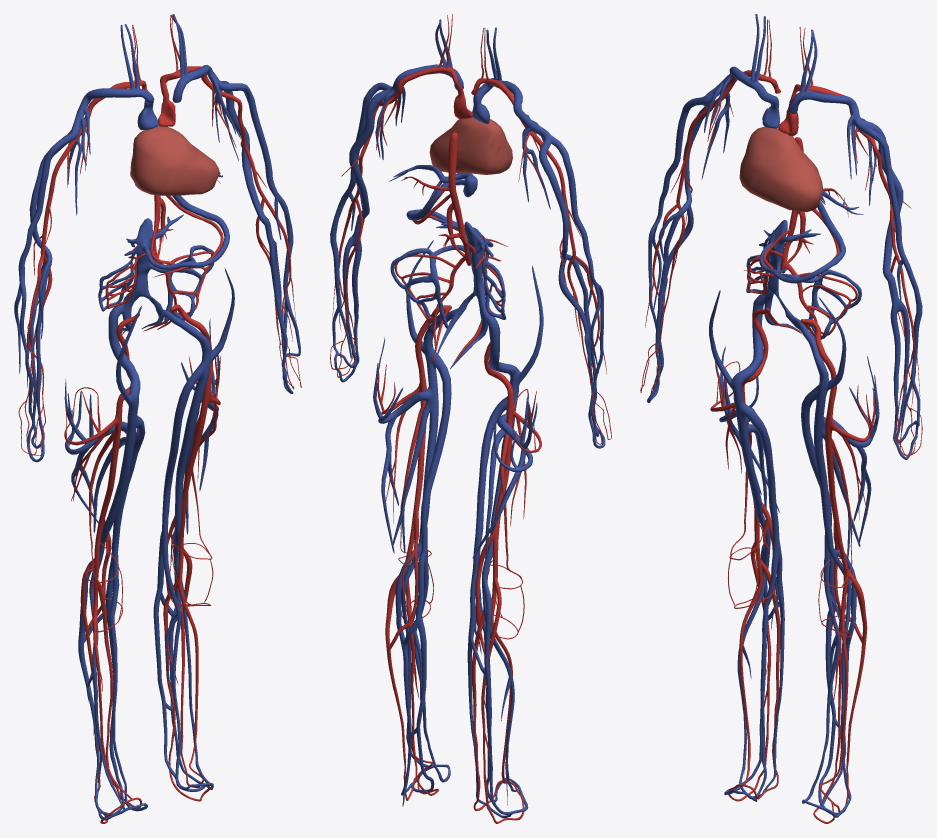
Rendered from pediatric_child_5y_female.cardiovascular.LOD1.glb.
3 views of the same model, side by side, from view 1: azimuth 30°, elevation 25°; view 2: azimuth 150°, elevation 25°; view 3: azimuth 330°, elevation 25° (orthographic).
Parts seen in each view (by area): view 1: PEDIATRIC.CHILD_5Y.FEMALE.CARDIOVASCULAR.BLOOD_IN_LARGE_VEIN, PEDIATRIC.CHILD_5Y.FEMALE.CARDIOVASCULAR.BLOOD_IN_LARGE_ARTE, PEDIATRIC.CHILD_5Y.FEMALE.CARDIOVASCULAR.HEART_WALL; view 2: PEDIATRIC.CHILD_5Y.FEMALE.CARDIOVASCULAR.BLOOD_IN_LARGE_VEIN, PEDIATRIC.CHILD_5Y.FEMALE.CARDIOVASCULAR.BLOOD_IN_LARGE_ARTE, PEDIATRIC.CHILD_5Y.FEMALE.CARDIOVASCULAR.HEART_WALL; view 3: PEDIATRIC.CHILD_5Y.FEMALE.CARDIOVASCULAR.BLOOD_IN_LARGE_VEIN, PEDIATRIC.CHILD_5Y.FEMALE.CARDIOVASCULAR.BLOOD_IN_LARGE_ARTE, PEDIATRIC.CHILD_5Y.FEMALE.CARDIOVASCULAR.HEART_WALL.
Boxes of the visible parts, box(x1,y1,x2,y2) form: PEDIATRIC.CHILD_5Y.FEMALE.CARDIOVASCULAR.BLOOD_IN_LARGE_VEIN: box(14, 14, 300, 820); PEDIATRIC.CHILD_5Y.FEMALE.CARDIOVASCULAR.BLOOD_IN_LARGE_ARTE: box(18, 14, 301, 823); PEDIATRIC.CHILD_5Y.FEMALE.CARDIOVASCULAR.HEART_WALL: box(130, 125, 219, 195); PEDIATRIC.CHILD_5Y.FEMALE.CARDIOVASCULAR.BLOOD_IN_LARGE_VEIN: box(330, 19, 605, 818); PEDIATRIC.CHILD_5Y.FEMALE.CARDIOVASCULAR.BLOOD_IN_LARGE_ARTE: box(330, 14, 611, 823); PEDIATRIC.CHILD_5Y.FEMALE.CARDIOVASCULAR.HEART_WALL: box(429, 117, 512, 174); PEDIATRIC.CHILD_5Y.FEMALE.CARDIOVASCULAR.BLOOD_IN_LARGE_VEIN: box(647, 14, 922, 817); PEDIATRIC.CHILD_5Y.FEMALE.CARDIOVASCULAR.BLOOD_IN_LARGE_ARTE: box(640, 19, 922, 823); PEDIATRIC.CHILD_5Y.FEMALE.CARDIOVASCULAR.HEART_WALL: box(739, 126, 822, 212).
Bounding box in the file's own units: 0.3473 × 0.9465 × 0.1172.
